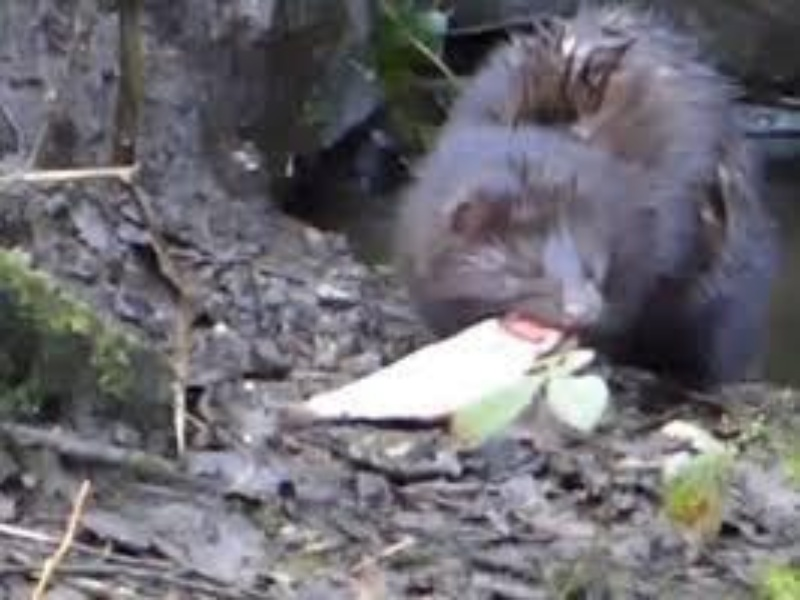minkish: (393, 8, 784, 360)
